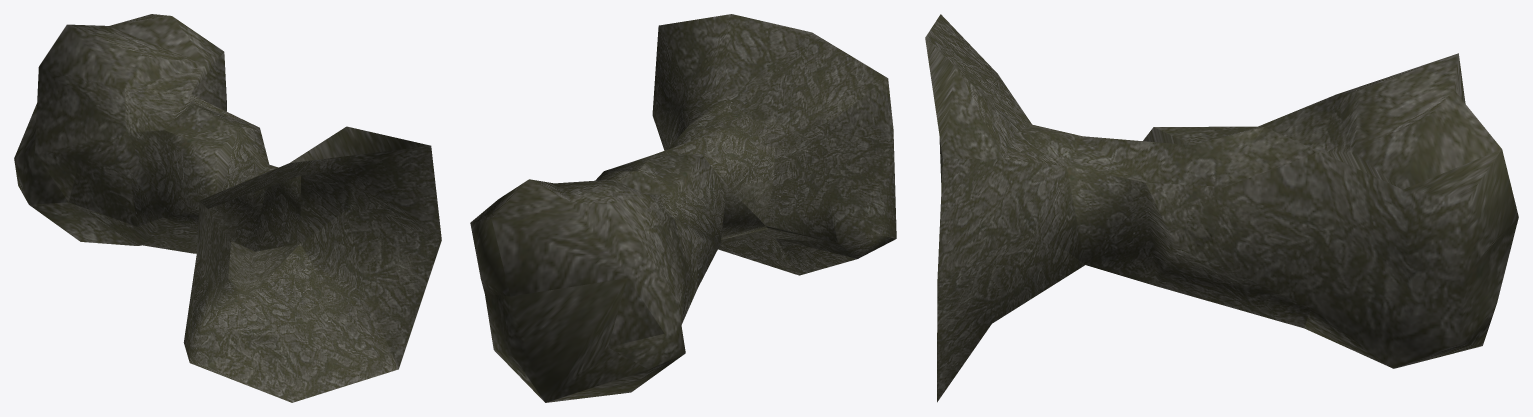
The model's file is rockt2.FBX.
3 views of the same model, side by side, from view 1: azimuth 30°, elevation 25°; view 2: azimuth 150°, elevation 25°; view 3: azimuth 270°, elevation 25° (orthographic). The views are drawn at different scales.
Visible parts, largest first — view 1: TI_Cliff_01_p_LOD_03; view 2: TI_Cliff_01_p_LOD_03; view 3: TI_Cliff_01_p_LOD_03.
Part boxes in pixels (x1=…): TI_Cliff_01_p_LOD_03: x1=14, y1=14, x2=441, y2=402; TI_Cliff_01_p_LOD_03: x1=470, y1=14, x2=896, y2=402; TI_Cliff_01_p_LOD_03: x1=925, y1=14, x2=1518, y2=402.
Size of the model in its own units: 3.85 by 3.77 by 6.35.
Materials: 1 (1 with a texture image).
